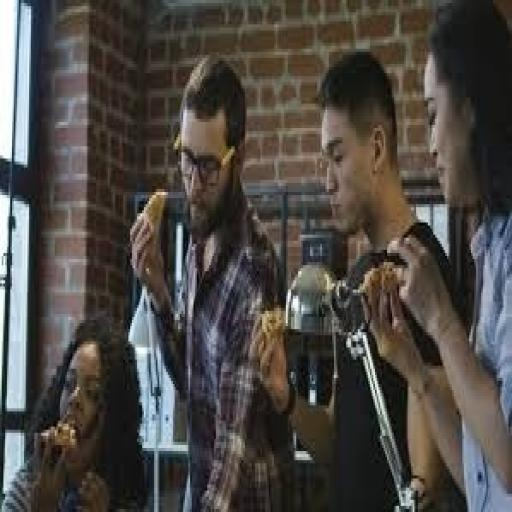eating: (125, 52, 296, 509)
